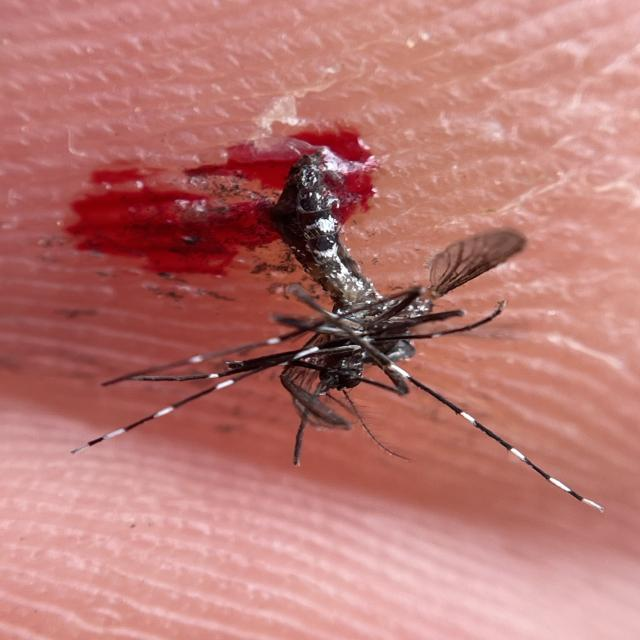albopictus: (71, 168, 598, 509)
